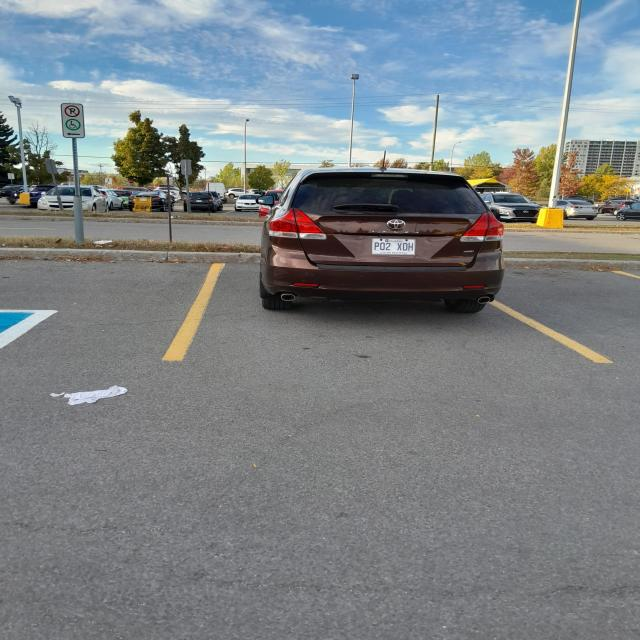plaque: (372, 238, 415, 255), (196, 200, 203, 202)
